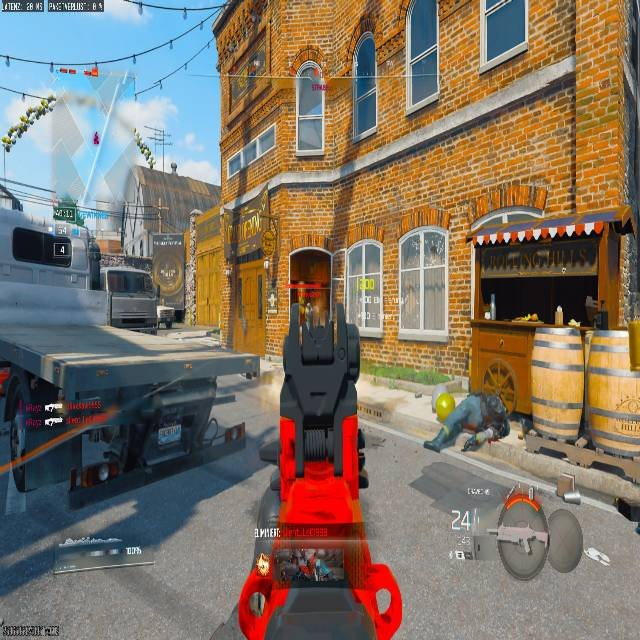player: (299, 295, 316, 336)
